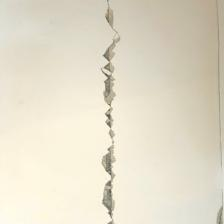Medium: (88, 6, 134, 198)
